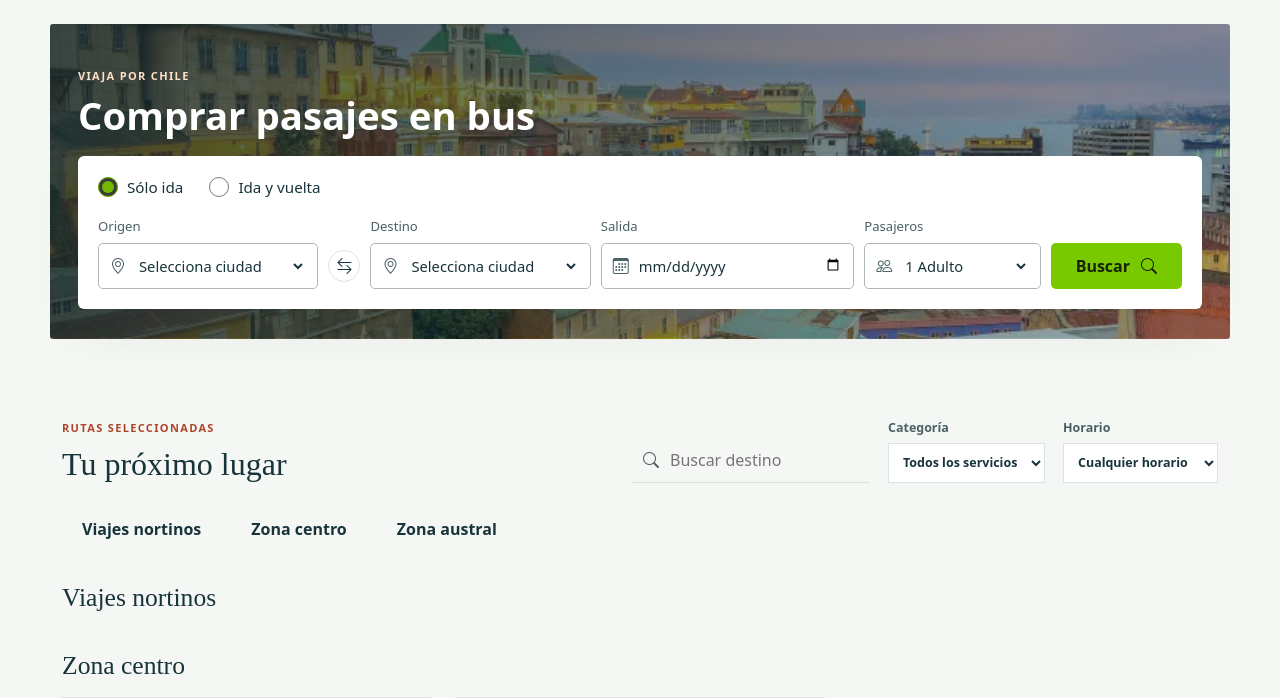
MenuPage › explica cuando la ruta buscada no está publicada
Select "Santiago" in the dropdown labelled "Origen" at (221, 266), box [135,244,306,288]
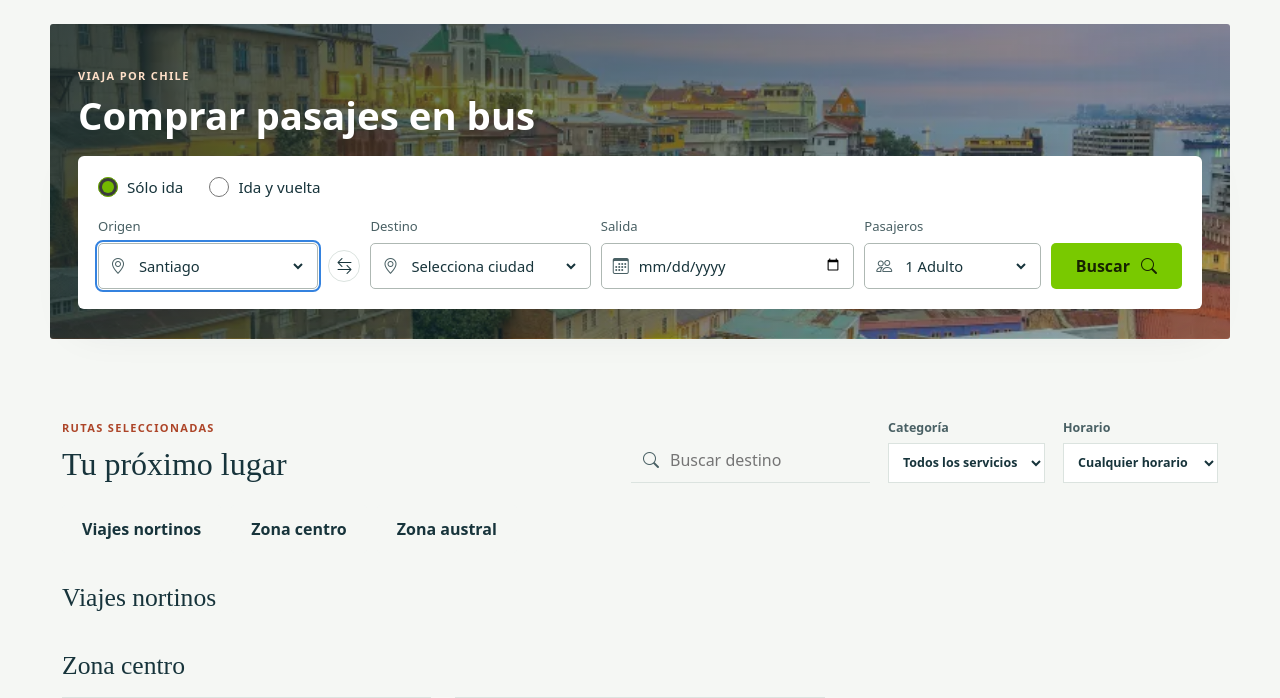
Select "Valdivia" in the dropdown labelled "Destino" at (493, 266), box [407,244,579,288]
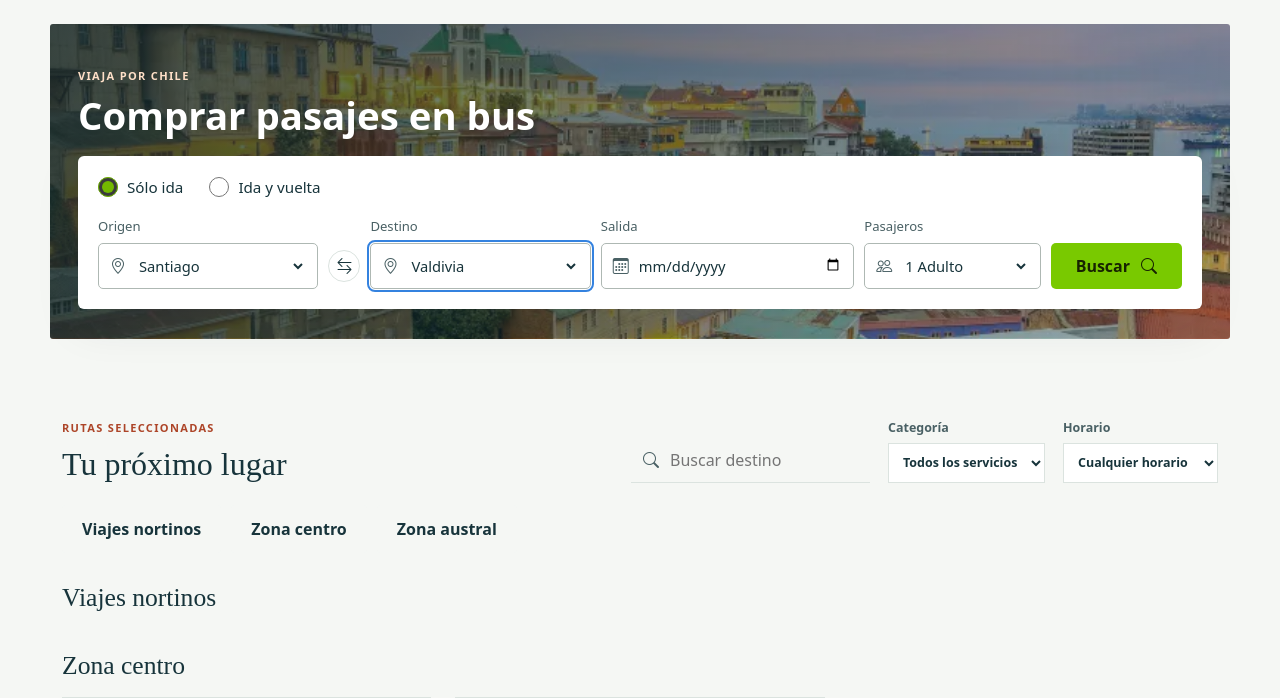
Type "2099-04-20" into the date field labelled "Salida" at (740, 266), box [638,244,842,288]
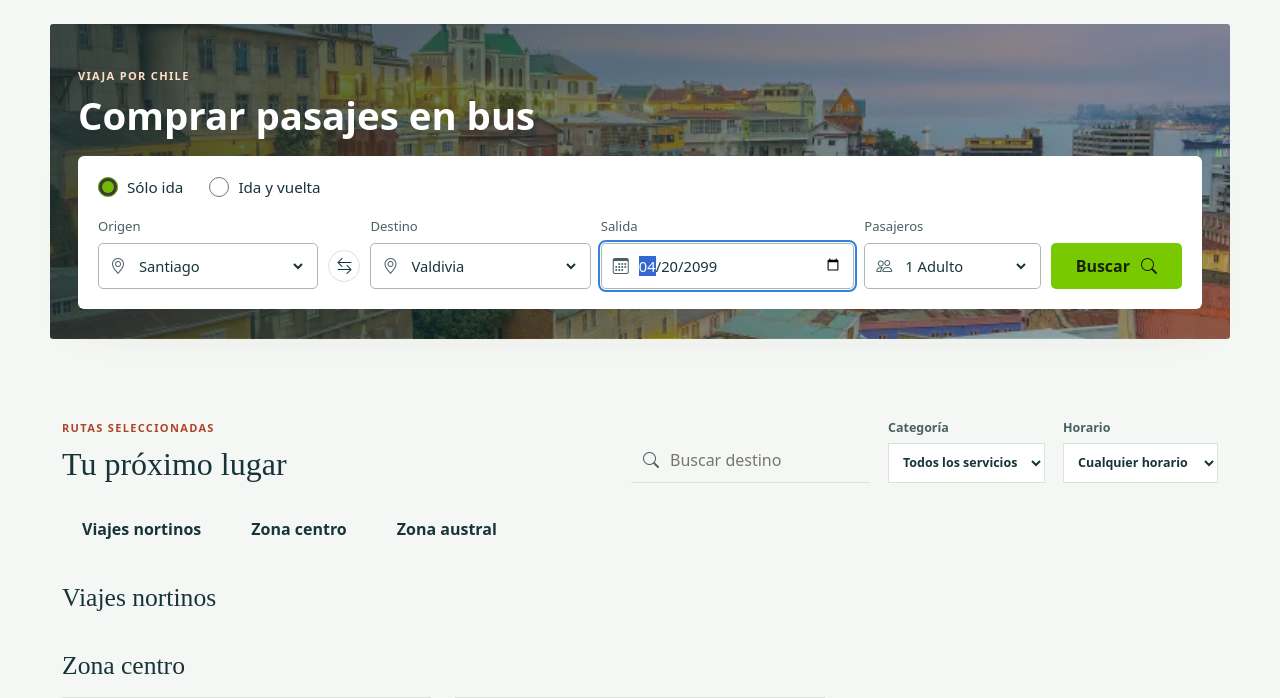
Click the button "Buscar" at (1116, 266), box [1051,243,1182,289]
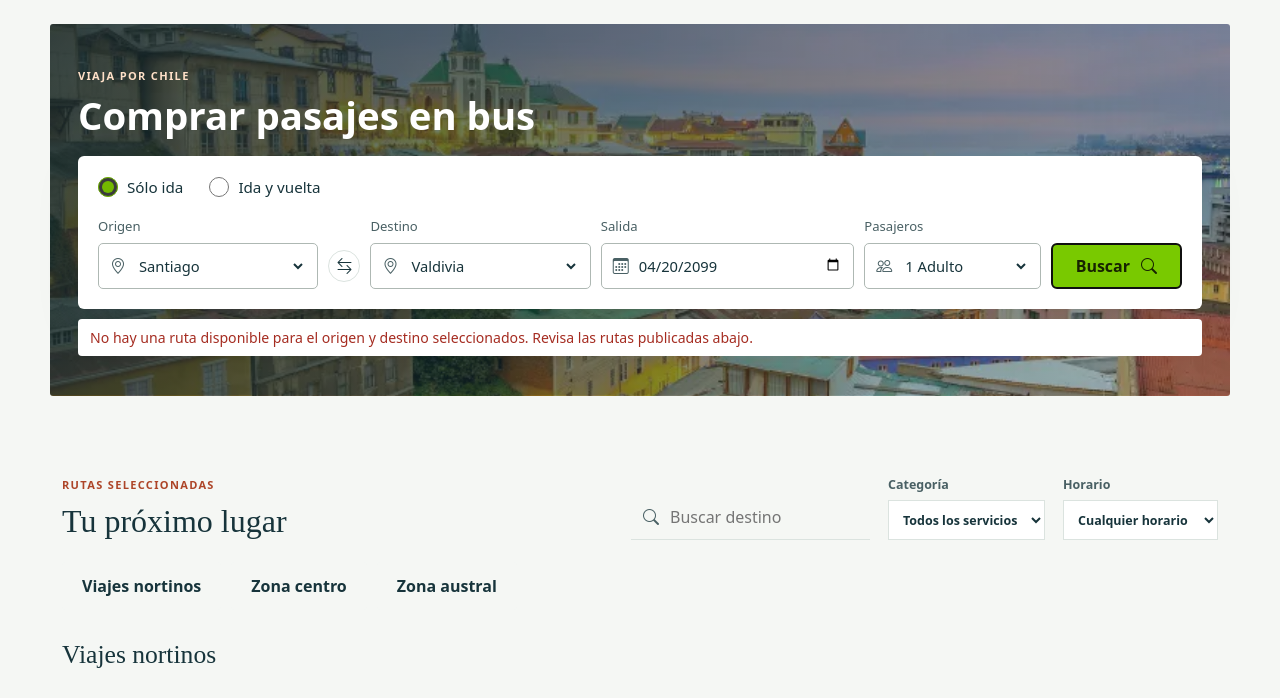
Expected: the message shows "No hay una ruta disponible", [90,328,753,347]
